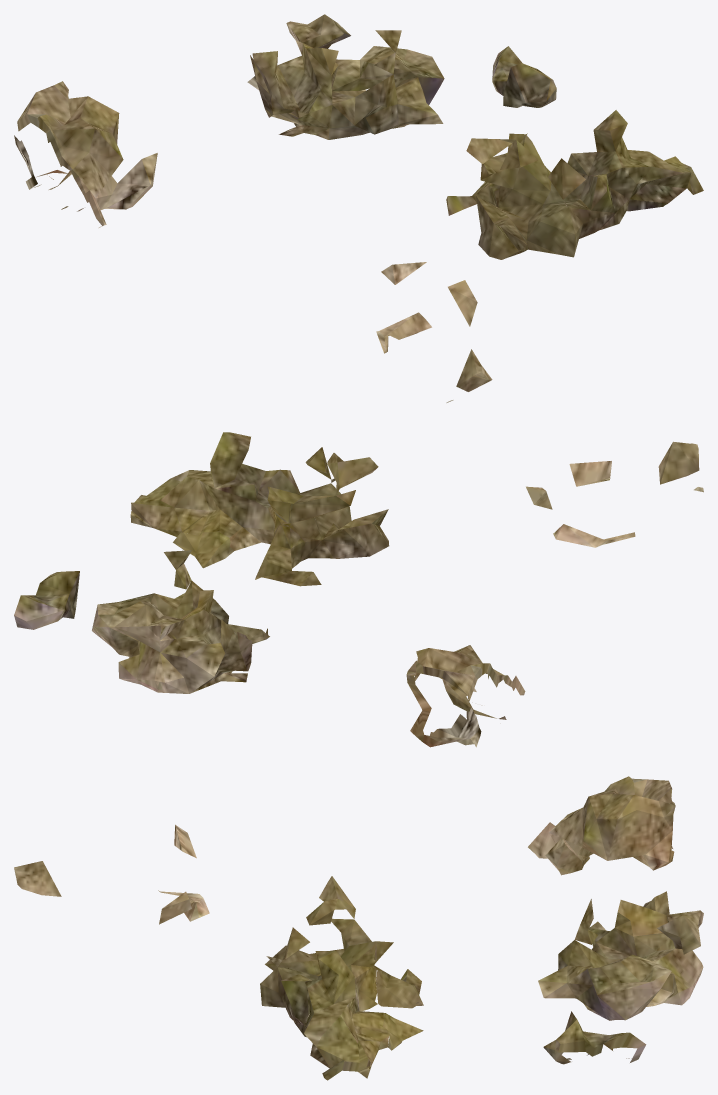
The picture shows the model from 3 angles, top to bottom: view 1: azimuth 30°, elevation 25°; view 2: azimuth 150°, elevation 25°; view 3: azimuth 270°, elevation 25°; orthographic projection. The views are drawn at different scales.
Visible parts, largest first — view 1: Mesh_0; view 2: Mesh_0; view 3: Mesh_0.
Boxes of the visible parts, <box> form: Mesh_0: <box>14,14,703,402</box>; Mesh_0: <box>14,432,703,747</box>; Mesh_0: <box>14,776,703,1080</box>.
Size of the model in its own units: 31.7 by 6.43 by 39.83.
Materials: 1 (1 with a texture image).
